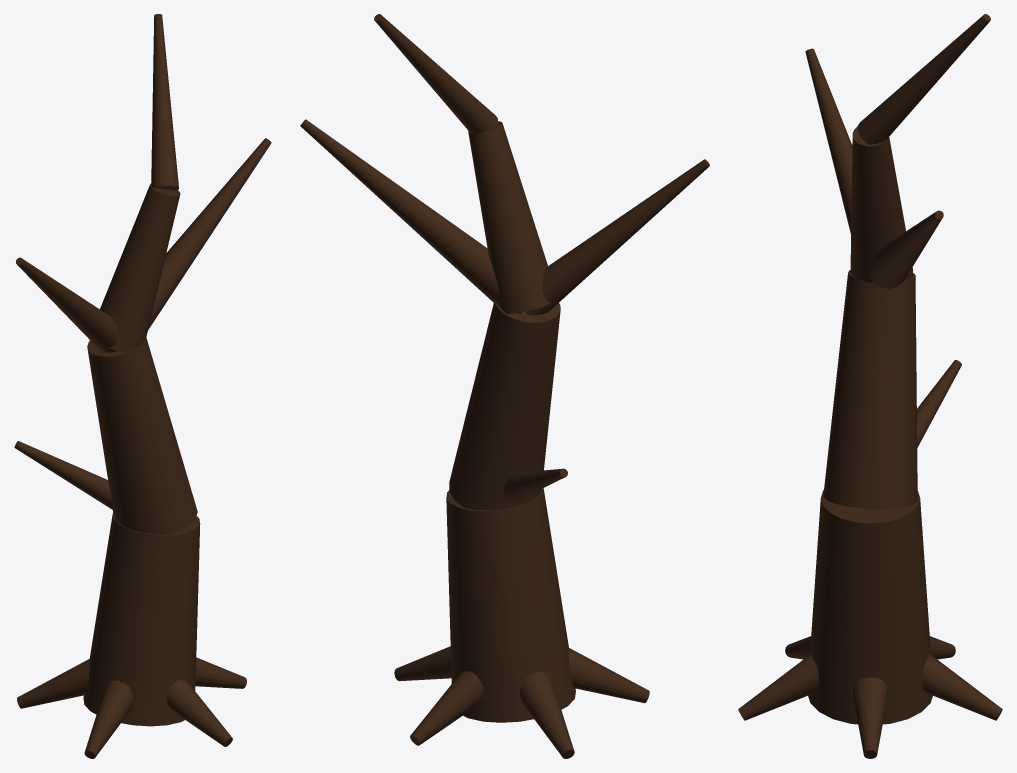
Rendered from cenario_arvore_seca.glb.
The picture shows the model from 3 angles, left to right: view 1: azimuth 30°, elevation 25°; view 2: azimuth 150°, elevation 25°; view 3: azimuth 270°, elevation 25°; orthographic projection. The views are drawn at different scales.
Parts seen in each view (by area): view 1: cenario_arvore_seca; view 2: cenario_arvore_seca; view 3: cenario_arvore_seca.
Boxes of the visible parts, x1=… form: cenario_arvore_seca: x1=14, y1=14, x2=271, y2=758; cenario_arvore_seca: x1=300, y1=14, x2=709, y2=758; cenario_arvore_seca: x1=738, y1=14, x2=1002, y2=758.
Bounding box in the file's own units: 1.79 × 3.55 × 1.17.
